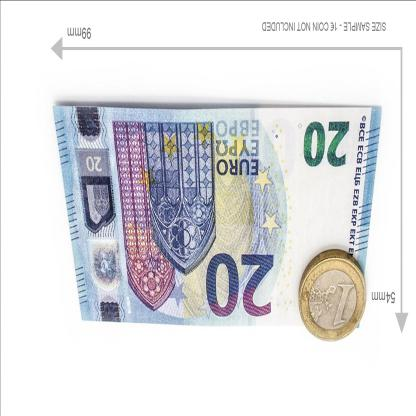euro_banknote: (54, 107, 384, 327)
